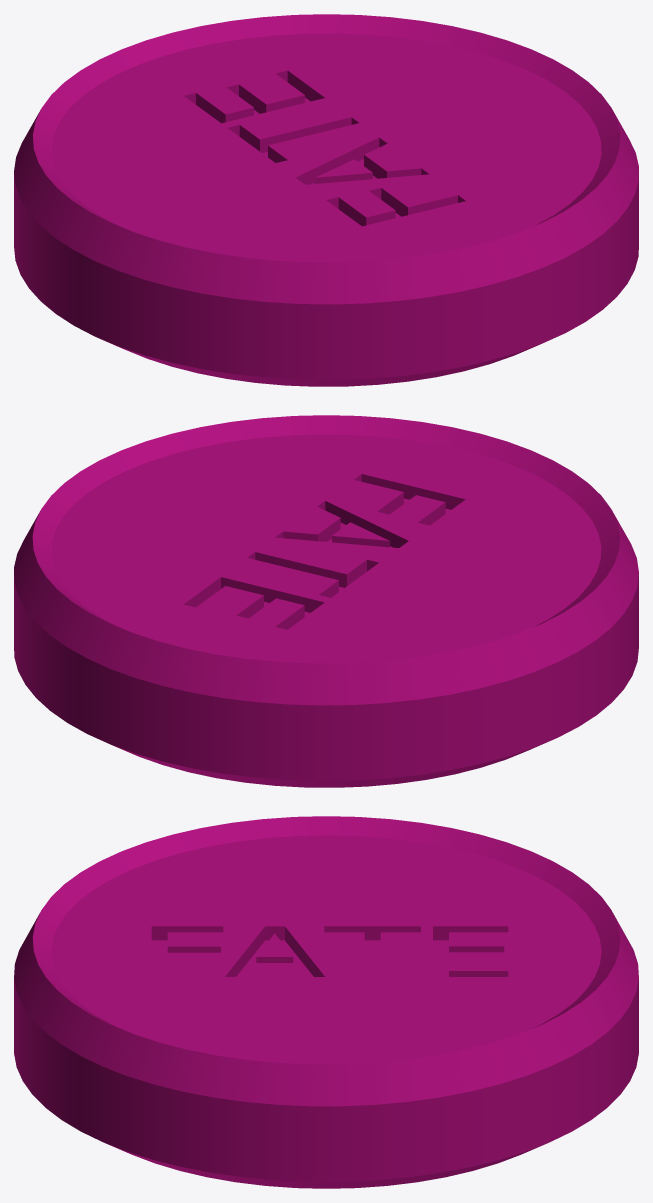
Rendered from Piece V1 Fandango.glb.
3 renders of one model, top to bottom at view 1: azimuth 30°, elevation 25°; view 2: azimuth 150°, elevation 25°; view 3: azimuth 270°, elevation 25°, orthographic.
Visible parts, largest first — view 1: Solid1; view 2: Solid1; view 3: Solid1.
Part boxes in pixels (<box>): Solid1: <box>14,14,638,386</box>; Solid1: <box>14,415,638,787</box>; Solid1: <box>14,816,638,1188</box>.
Bounding box in the file's own units: 0.0317 × 0.00741 × 0.0317.
